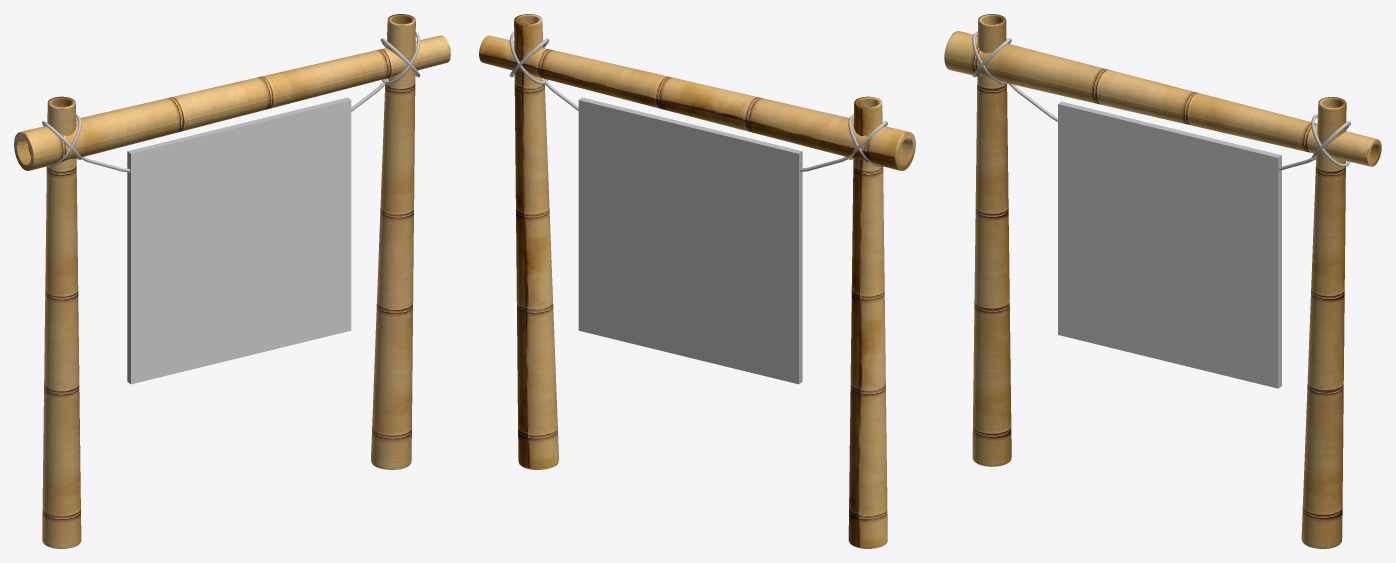
File: NFT.fbx
3 views of the same model, side by side, from view 1: azimuth 30°, elevation 25°; view 2: azimuth 150°, elevation 25°; view 3: azimuth 330°, elevation 25° (orthographic).
Visible parts, largest first — view 1: Cylinder; view 2: Cylinder; view 3: Cylinder.
Part boxes in pixels (<box>): Cylinder: <box>14,14,450,548</box>; Cylinder: <box>479,14,915,548</box>; Cylinder: <box>944,14,1381,548</box>.
Size of the model in its own units: 268 by 268 by 22.68.
